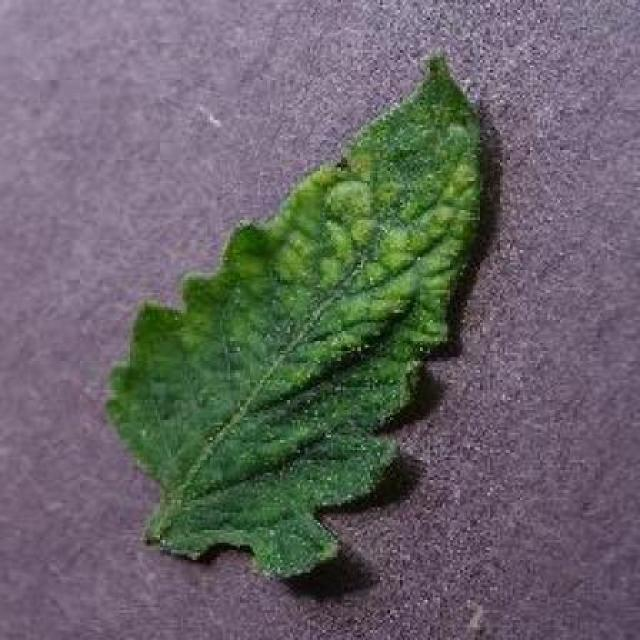Mosaic Virus: (101, 53, 486, 580)
